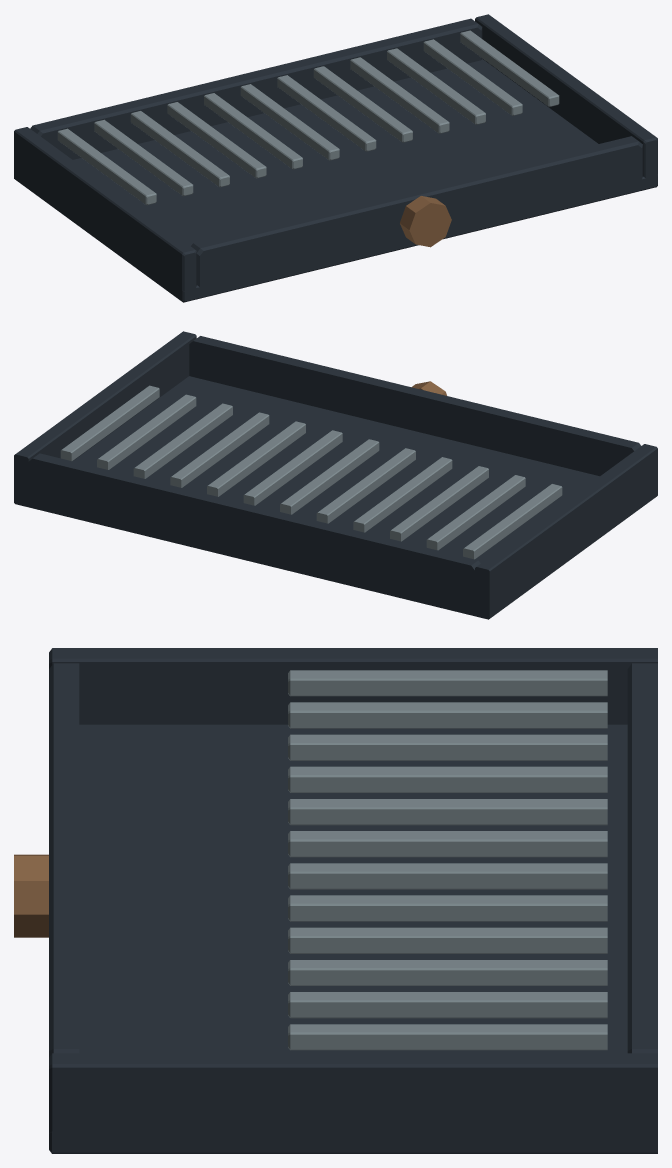
File: R-18_service_drain.glb
3 renders of one model, top to bottom at view 1: azimuth 30°, elevation 25°; view 2: azimuth 150°, elevation 25°; view 3: azimuth 270°, elevation 25°, orthographic. The views are drawn at different scales.
Visible parts, largest first — view 1: R-18_service_drain; view 2: R-18_service_drain; view 3: R-18_service_drain.
Part boxes in pixels (box(x1,y1,x2,y2)): R-18_service_drain: box(14, 14, 657, 302); R-18_service_drain: box(14, 331, 657, 619); R-18_service_drain: box(14, 648, 657, 1153).
Bounding box in the file's own units: 0.65 × 0.0675 × 0.423.
